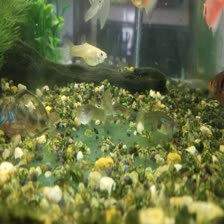Guppy: (58, 39, 115, 63), (69, 95, 107, 125)
Kiros: (0, 85, 61, 142)
